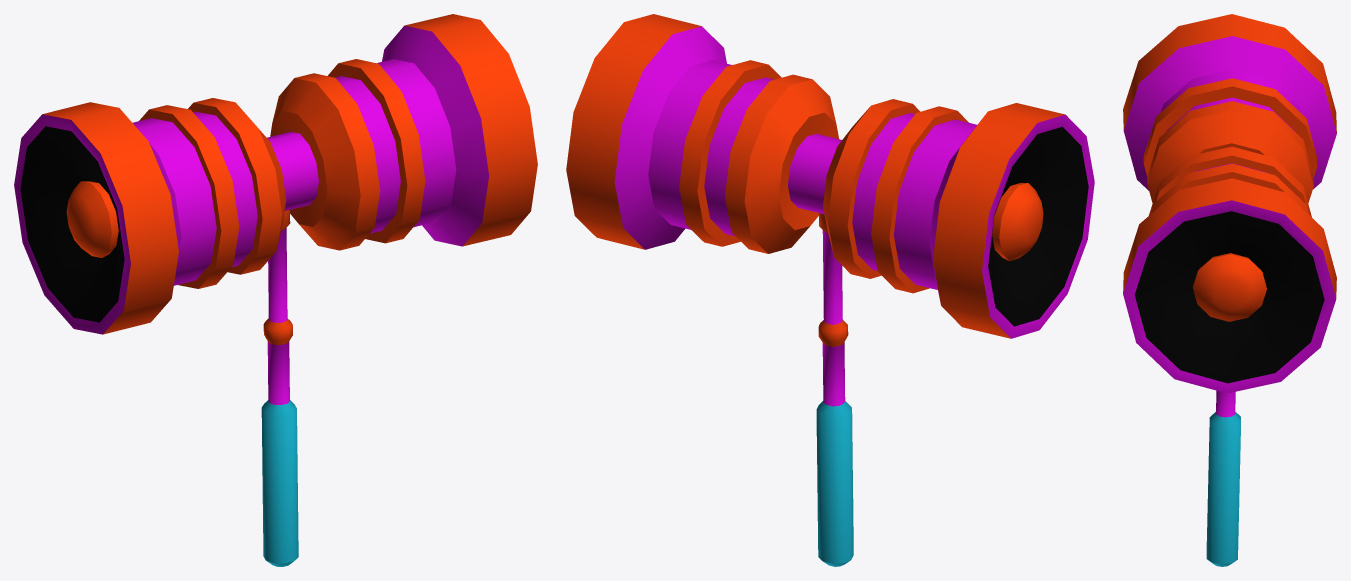
File: hammerFinal.FBX
3 renders of one model, left to right at view 1: azimuth 30°, elevation 25°; view 2: azimuth 150°, elevation 25°; view 3: azimuth 270°, elevation 25°, orthographic. The views are drawn at different scales.
Visible parts, largest first — view 1: Cylinder002; view 2: Cylinder002; view 3: Cylinder002.
Part boxes in pixels (bbox=[...]): Cylinder002: bbox=[14, 14, 537, 566]; Cylinder002: bbox=[566, 14, 1094, 566]; Cylinder002: bbox=[1123, 14, 1336, 566].
Size of the model in its own units: 11.72 by 13.29 by 5.65.
